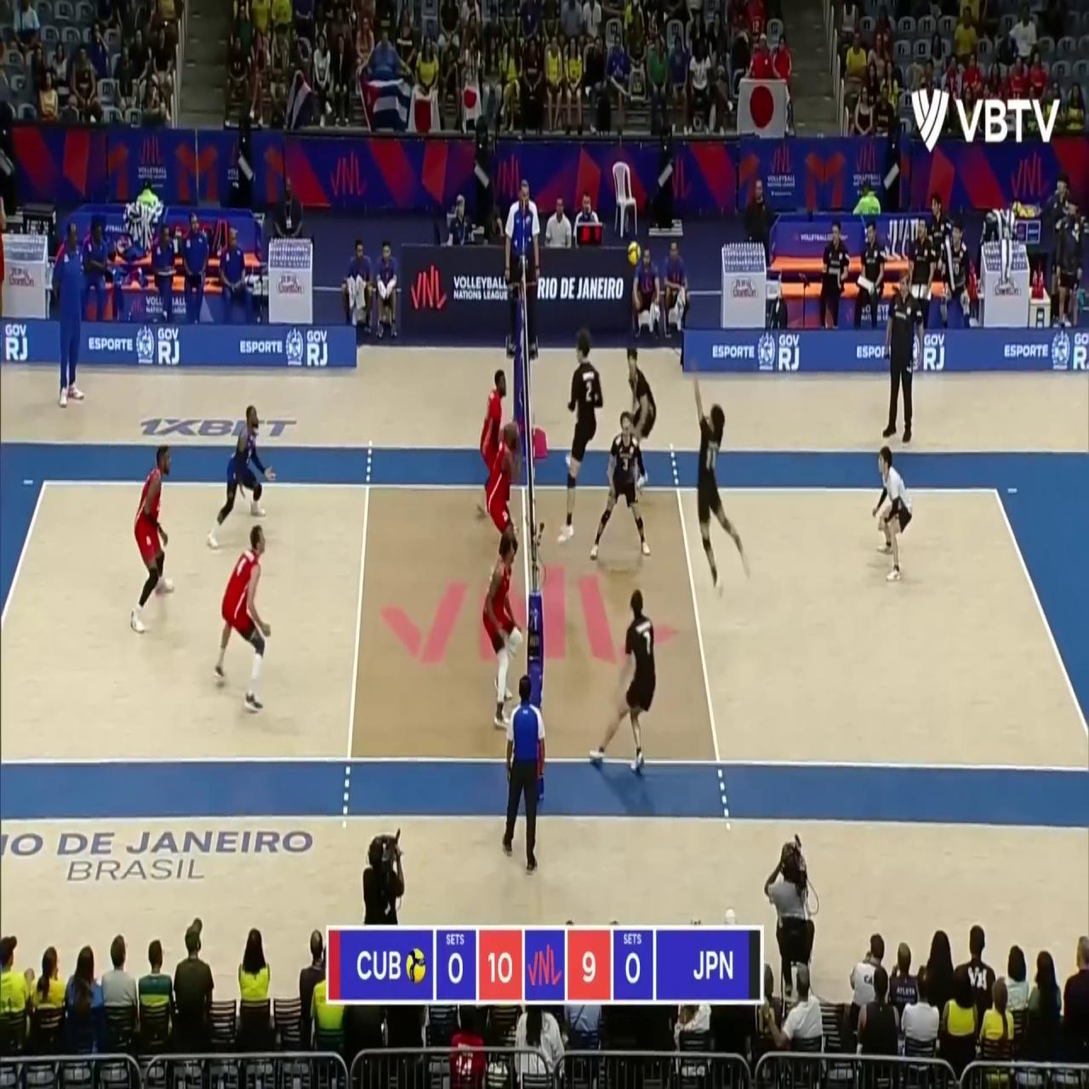ball: (628, 242, 641, 265)
